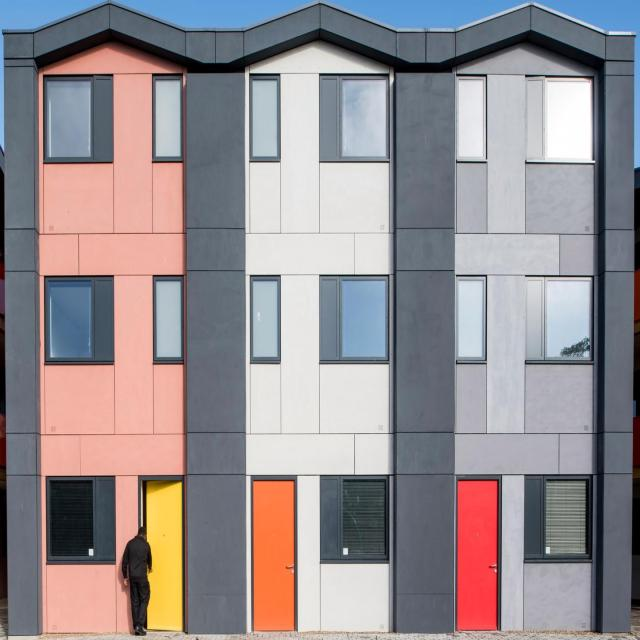door: (457, 476, 503, 634), (255, 478, 298, 638), (149, 476, 187, 634)
window: (548, 78, 597, 160), (46, 73, 94, 155), (342, 77, 391, 156), (547, 276, 594, 358), (344, 278, 391, 359), (51, 280, 97, 360), (51, 478, 97, 554), (346, 479, 389, 559), (549, 475, 590, 554), (456, 80, 488, 164), (155, 274, 185, 361), (457, 275, 487, 361), (253, 78, 283, 160), (156, 75, 184, 157), (256, 277, 280, 357)
